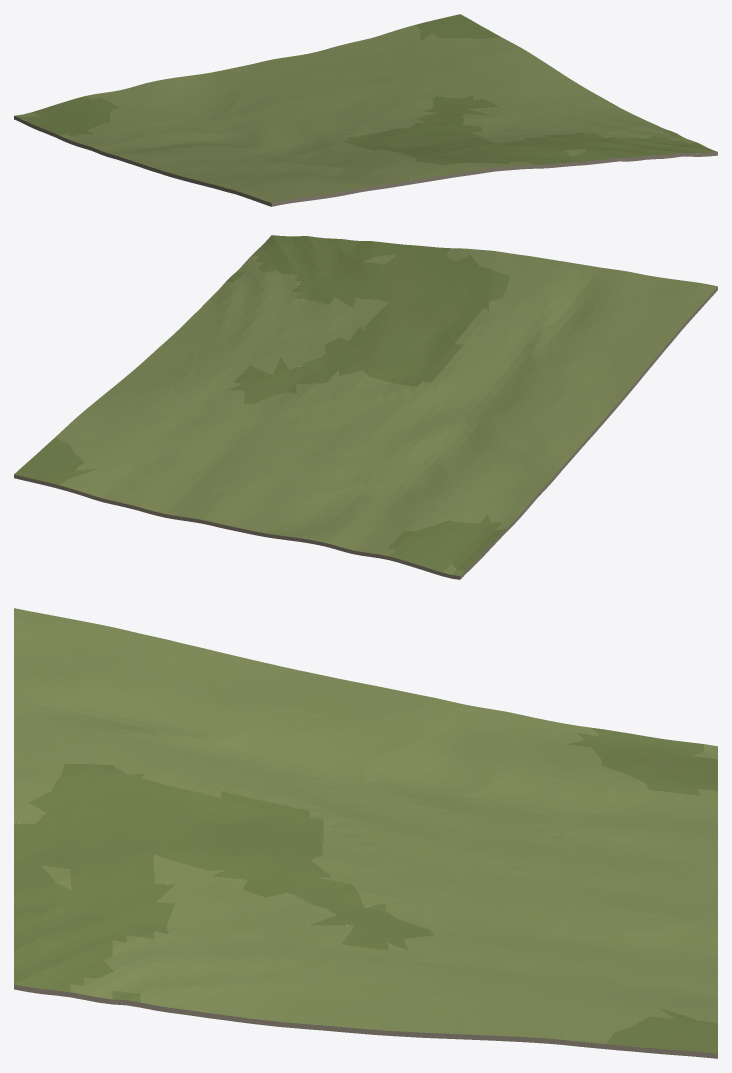
File: parca_+9_-4-uzak.glb
3 renders of one model, top to bottom at view 1: azimuth 30°, elevation 25°; view 2: azimuth 150°, elevation 25°; view 3: azimuth 270°, elevation 25°, orthographic. The views are drawn at different scales.
Parts seen in each view (by area): view 1: parca_+9_-4_arazi_uzak; view 2: parca_+9_-4_arazi_uzak; view 3: parca_+9_-4_arazi_uzak.
Boxes of the visible parts, x1,y1,x2,y2 form: parca_+9_-4_arazi_uzak: [14, 14, 717, 206]; parca_+9_-4_arazi_uzak: [14, 235, 717, 579]; parca_+9_-4_arazi_uzak: [14, 608, 717, 1058].
Size of the model in its own units: 1000 by 246 by 1000.
